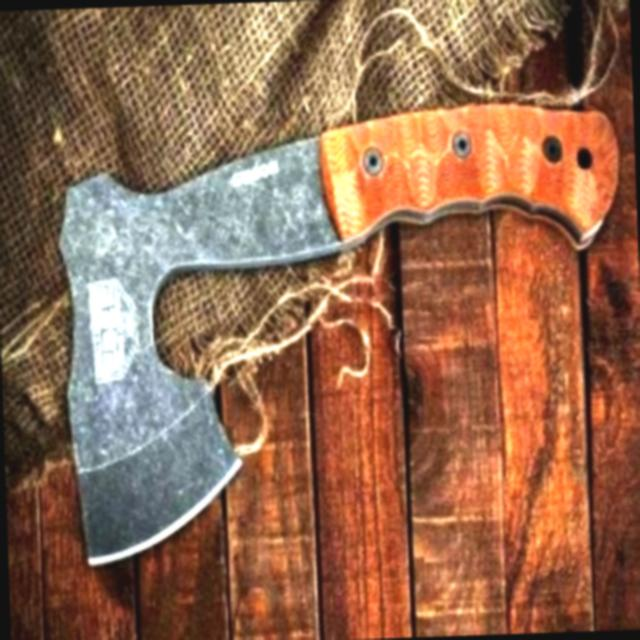ax: (44, 83, 640, 578)
